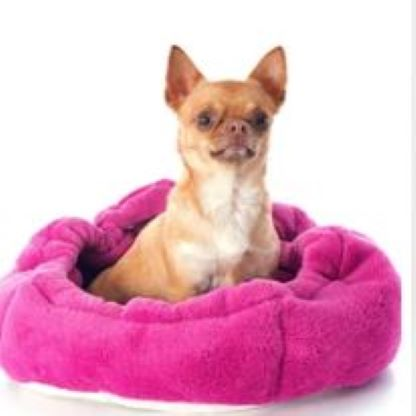chihuahua: (86, 41, 294, 287)
